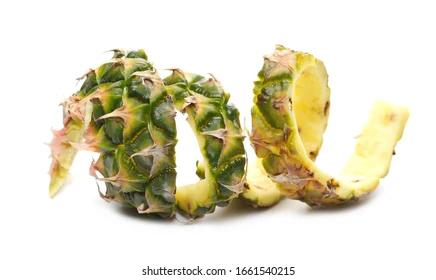organic: (49, 43, 410, 224)
